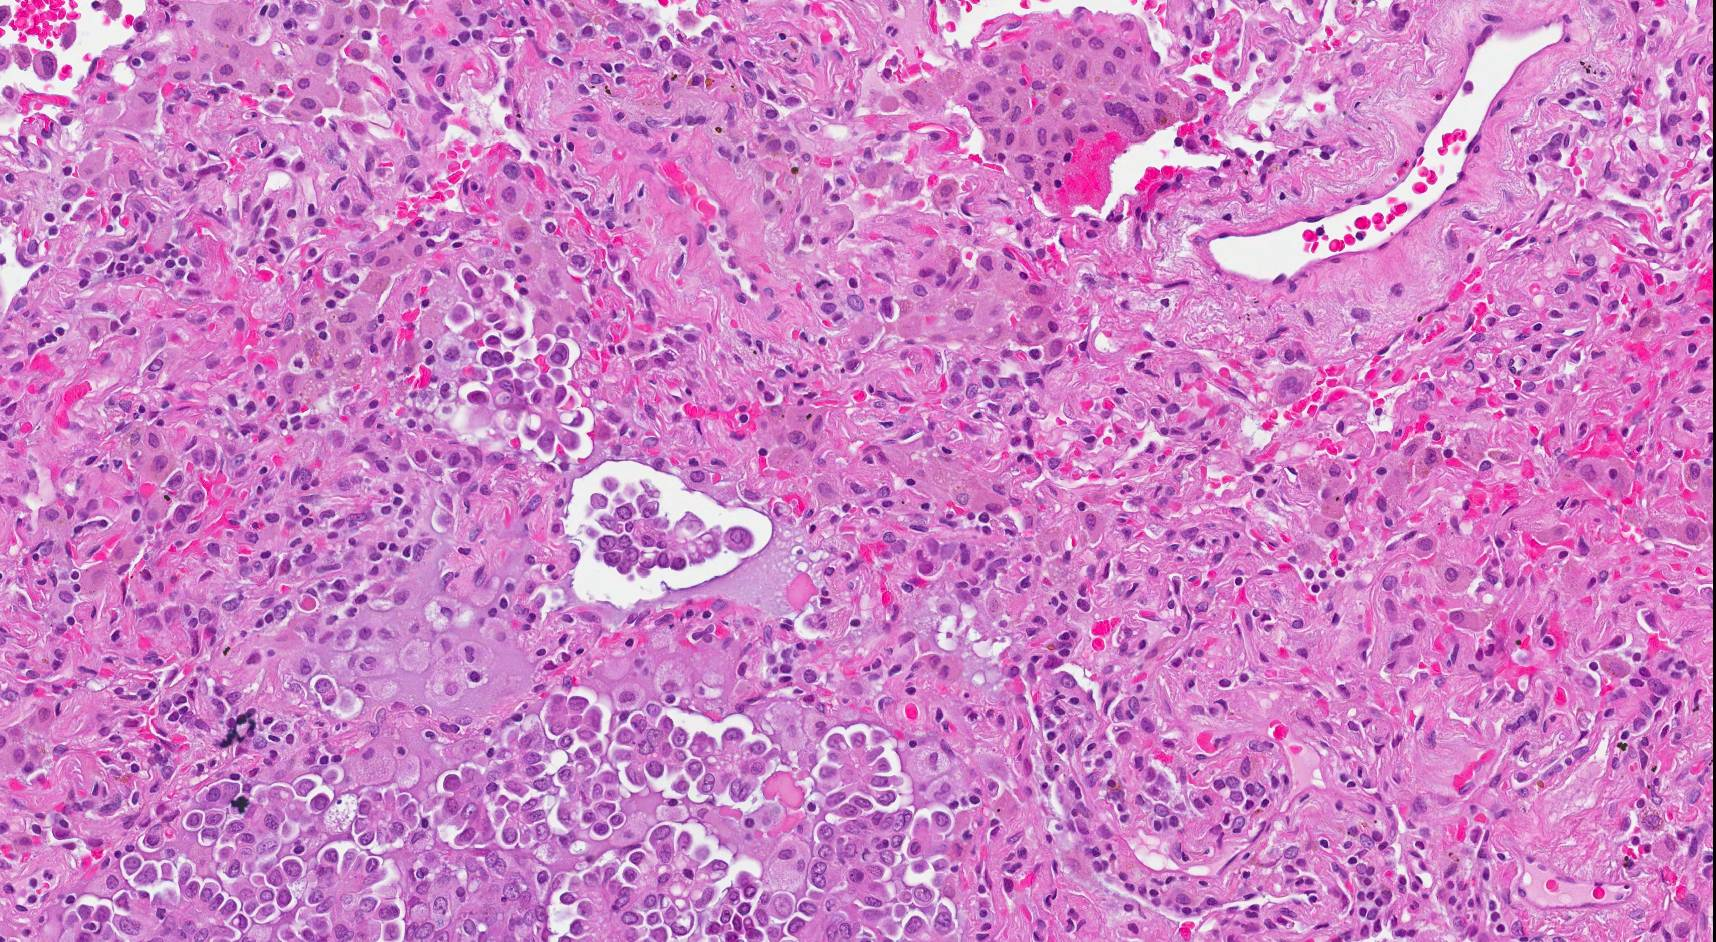stas: (465, 325, 595, 461), (589, 480, 725, 585)
